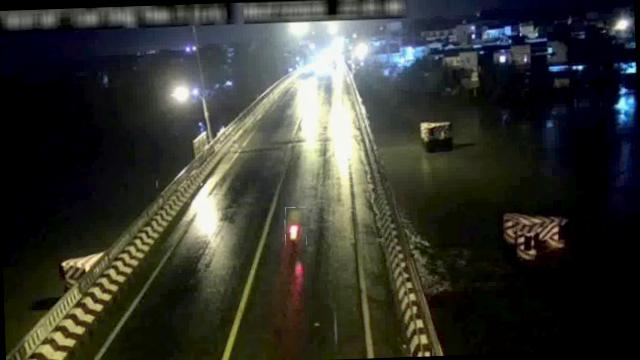Bike: (284, 207, 307, 246)
